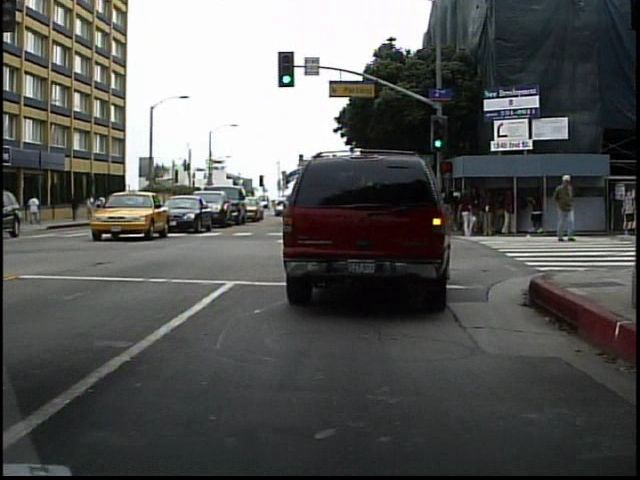person: (551, 170, 578, 247), (25, 190, 43, 226)
